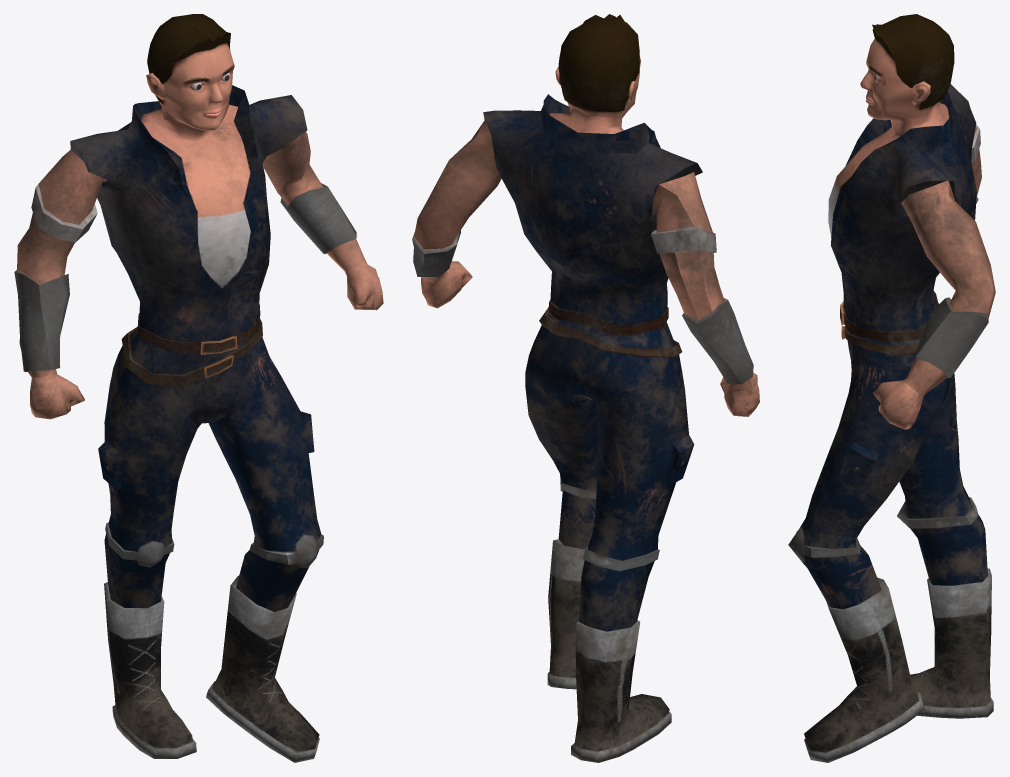
Rendered from Anim_ataque_f2_jugador.0011.obj.
3 views of the same model, side by side, from view 1: azimuth 30°, elevation 25°; view 2: azimuth 150°, elevation 25°; view 3: azimuth 270°, elevation 25° (orthographic). The views are drawn at different scales.
Visible parts, largest first — view 1: polySurface1; view 2: polySurface1; view 3: polySurface1.
Boxes of the visible parts, x1,y1,x2,y2 form: polySurface1: (14, 14, 383, 762); polySurface1: (412, 14, 759, 762); polySurface1: (788, 14, 995, 762).
Size of the model in its own units: 4.86 by 9.63 by 2.57.
